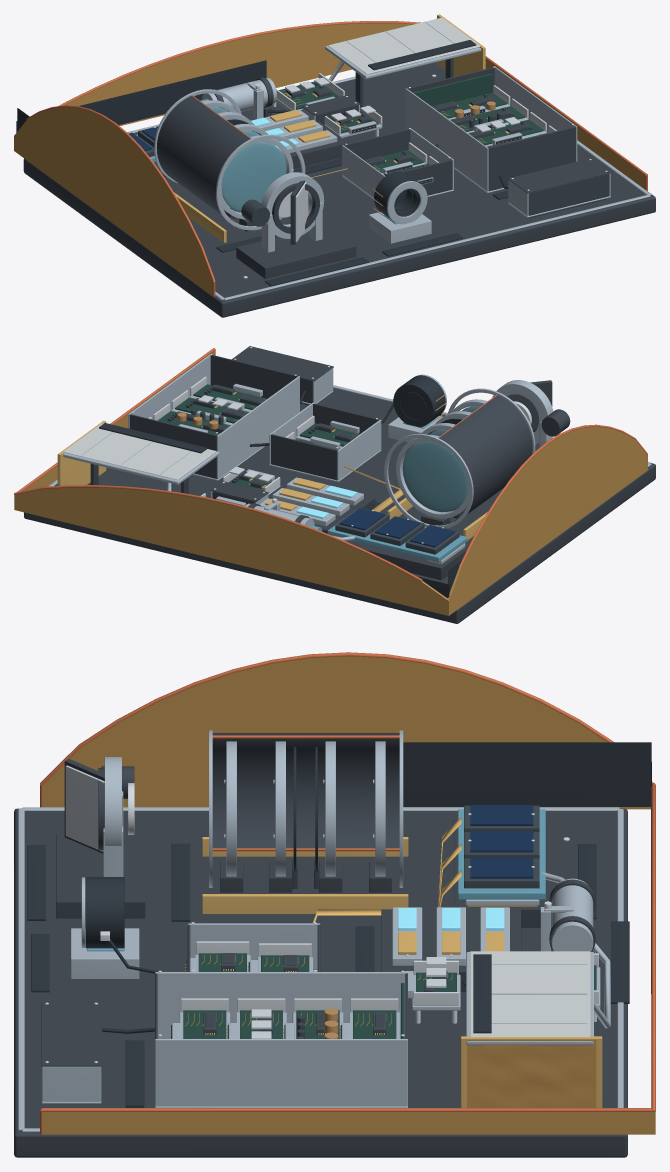
The model's file is tirs2.glb.
The picture shows the model from 3 angles, top to bottom: view 1: azimuth 30°, elevation 25°; view 2: azimuth 150°, elevation 25°; view 3: azimuth 270°, elevation 25°; orthographic projection. The views are drawn at different scales.
Visible parts, largest first — view 1: Structure — Anodized chassis, Structure — Representative MLI outer layer, Electronics — Anodized chassis, Electronics — Machined satin aluminum, Telescope — Anodized chassis, SceneSelect — Anodized chassis, Structure — Optical and connector recess, Radiator — Radiator coating, Telescope — Refractive element teaching blue, Electronics — Midnight circuit laminate, Structure — Cutaway section edge, Telescope — Machined satin aluminum (+23 smaller); view 2: Structure — Representative MLI outer layer, Structure — Anodized chassis, Electronics — Machined satin aluminum, Electronics — Anodized chassis, Telescope — Anodized chassis, Radiator — Radiator coating, Telescope — Refractive element teaching blue, Telescope — Machined satin aluminum, Readout — Anodized chassis, Readout — Machined satin aluminum, Structure — Cutaway section edge, Blackbody — Optical and connector recess (+24 smaller); view 3: Structure — Anodized chassis, Structure — Representative MLI outer layer, Electronics — Machined satin aluminum, Telescope — Anodized chassis, Structure — Optical and connector recess, Radiator — Radiator coating, Radiator — Representative MLI outer layer, Telescope — Machined satin aluminum, Structure — Cutaway section edge, Structure — Machined satin aluminum, SceneSelect — Anodized chassis, Electronics — Anodized chassis (+33 smaller).
Boxes of the visible parts, bbox=[...] form: Structure — Anodized chassis: bbox=[23, 62, 655, 317]; Structure — Representative MLI outer layer: bbox=[14, 23, 647, 295]; Electronics — Anodized chassis: bbox=[407, 67, 611, 217]; Electronics — Machined satin aluminum: bbox=[405, 67, 610, 217]; Telescope — Anodized chassis: bbox=[156, 96, 254, 231]; SceneSelect — Anodized chassis: bbox=[236, 199, 356, 278]; Structure — Optical and connector recess: bbox=[16, 60, 266, 132]; Radiator — Radiator coating: bbox=[328, 17, 480, 74]; Telescope — Refractive element teaching blue: bbox=[209, 107, 286, 212]; Electronics — Midnight circuit laminate: bbox=[413, 73, 547, 145]; Structure — Cutaway section edge: bbox=[26, 21, 647, 296]; Telescope — Machined satin aluminum: bbox=[154, 89, 305, 230]; Structure — Representative MLI outer layer: bbox=[14, 350, 647, 615]; Structure — Anodized chassis: bbox=[24, 388, 655, 623]; Electronics — Machined satin aluminum: bbox=[128, 354, 333, 480]; Electronics — Anodized chassis: bbox=[129, 346, 333, 478]; Telescope — Anodized chassis: bbox=[421, 395, 532, 525]; Radiator — Radiator coating: bbox=[64, 423, 216, 479]; Telescope — Refractive element teaching blue: bbox=[402, 406, 479, 512]; Telescope — Machined satin aluminum: bbox=[384, 388, 535, 528]; Readout — Anodized chassis: bbox=[271, 403, 379, 480]; Readout — Machined satin aluminum: bbox=[269, 403, 381, 482]; Structure — Cutaway section edge: bbox=[14, 348, 647, 581]; Blackbody — Optical and connector recess: bbox=[393, 375, 445, 427]; Structure — Anodized chassis: bbox=[14, 808, 627, 1157]; Structure — Representative MLI outer layer: bbox=[42, 656, 655, 1134]; Electronics — Machined satin aluminum: bbox=[42, 972, 407, 1107]; Telescope — Anodized chassis: bbox=[212, 733, 399, 892]; Structure — Optical and connector recess: bbox=[403, 742, 651, 993]; Radiator — Radiator coating: bbox=[470, 951, 590, 1036]; Radiator — Representative MLI outer layer: bbox=[467, 1040, 596, 1107]; Telescope — Machined satin aluminum: bbox=[209, 730, 403, 887]; Structure — Cutaway section edge: bbox=[40, 652, 655, 1134]; Structure — Machined satin aluminum: bbox=[18, 807, 623, 1132]; SceneSelect — Anodized chassis: bbox=[56, 766, 145, 918]; Electronics — Anodized chassis: bbox=[41, 973, 407, 1066].
Bounding box in the file's own units: 10.42 × 2.82 × 8.63.
